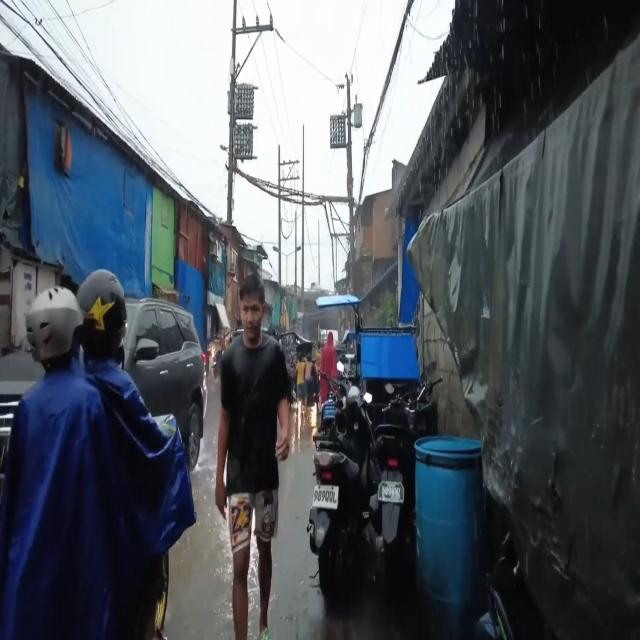full: (76, 270, 128, 354)
half: (26, 286, 84, 360)
